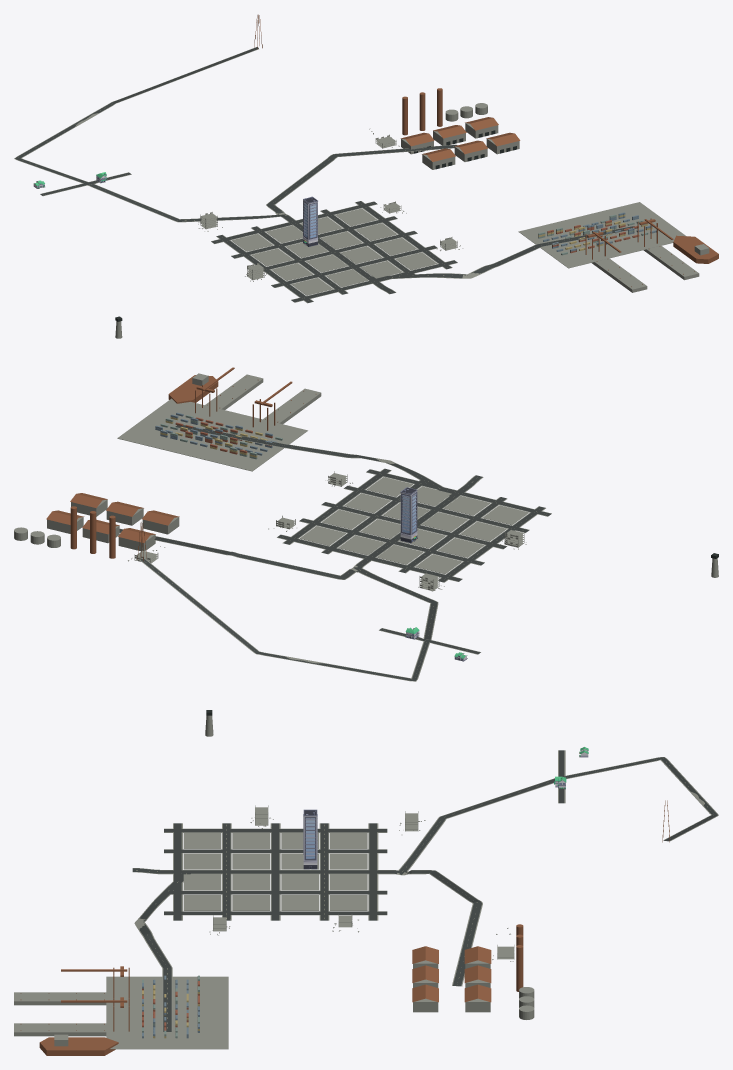
File: static.glb
3 views of the same model, one above another, from view 1: azimuth 30°, elevation 25°; view 2: azimuth 150°, elevation 25°; view 3: azimuth 270°, elevation 25° (orthographic). The views are drawn at different scales.
Parts seen in each view (by area): view 1: S | 02 | ROADS, S | 03 | OLD CITY, S | 04 | HARBOUR, S | 05 | INDUSTRIAL; view 2: S | 02 | ROADS, S | 04 | HARBOUR, S | 03 | OLD CITY, S | 05 | INDUSTRIAL; view 3: S | 02 | ROADS, S | 04 | HARBOUR, S | 03 | OLD CITY, S | 05 | INDUSTRIAL.
Boxes of the visible parts, x1,y1,x2,y2 form: S | 02 | ROADS: (14,47,637,303); S | 03 | OLD CITY: (200,196,457,295); S | 04 | HARBOUR: (518,202,718,292); S | 05 | INDUSTRIAL: (254,14,520,169); S | 02 | ROADS: (119,424,551,681); S | 04 | HARBOUR: (117,367,321,471); S | 03 | OLD CITY: (276,471,529,590); S | 05 | INDUSTRIAL: (14,493,179,563); S | 02 | ROADS: (132,750,718,1031); S | 04 | HARBOUR: (14,966,228,1055); S | 03 | OLD CITY: (183,805,418,931); S | 05 | INDUSTRIAL: (412,800,669,1019).
Size of the model in its own units: 1083 by 209 by 1010.
12 materials, 3 textured.
